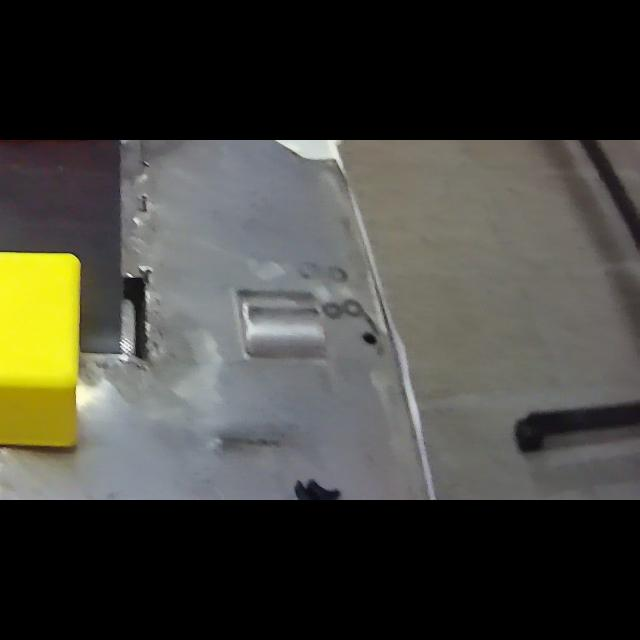redBox: (0, 140, 104, 146)
yellowBox: (0, 240, 86, 452)
